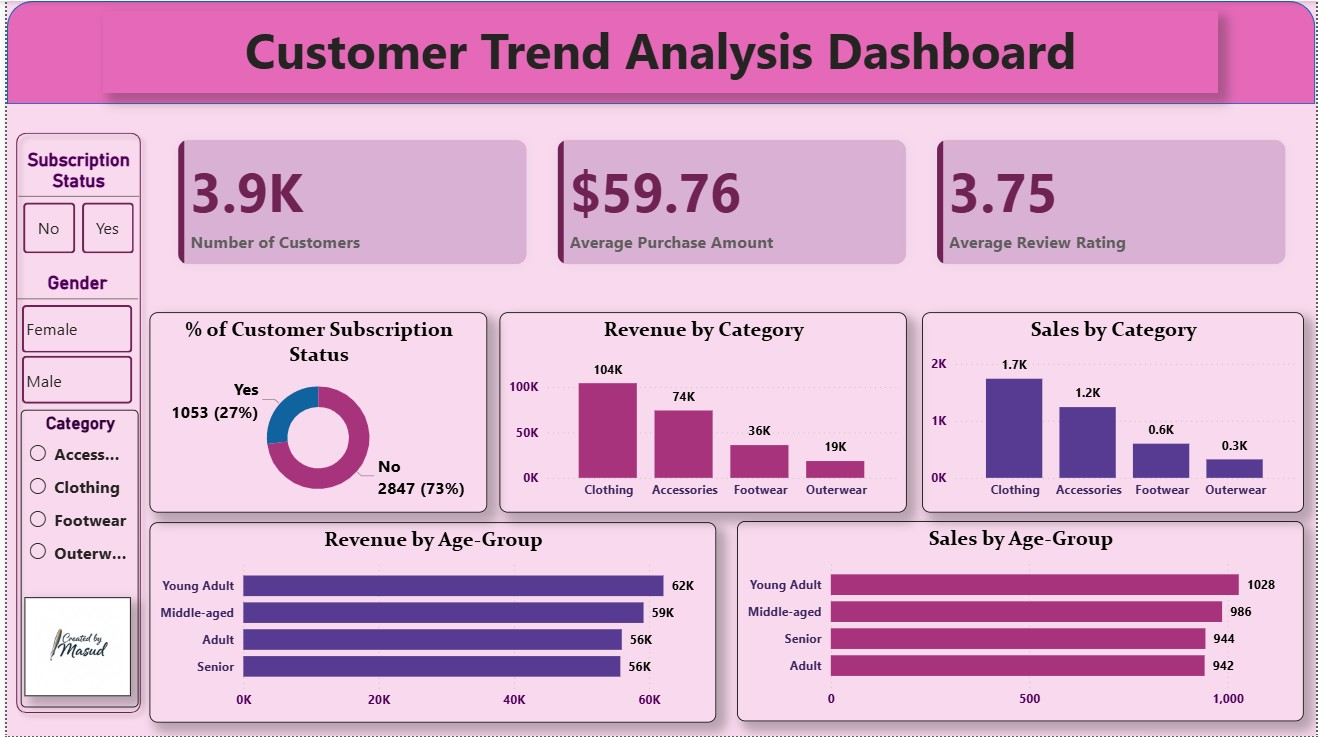

The dashboard page shown, as its layout file describes it:
{"tool":"powerbi","page":{"name":"Page 1","canvas":[1280,720],"ordinal":0},"visuals":[{"type":"shape","box":[0,0,1279.7,101],"z":0},{"type":"textbox","box":[93.8,10.1,1090.7,80],"z":1000},{"type":"cardVisual","fields":{"Data":["public customer.Number of Customers","public customer.Average Purchase Amount","public customer.Average Review Rating"]},"box":[151.5,119.7,1116.7,154.4],"z":2000},{"type":"donutChart","title":"% of Customer Subscription Status","fields":{"Category":["public customer.subscription_status"],"Y":["CountNonNull(public customer.customer_id)"]},"box":[139.9,304.4,330.4,196.2],"z":3000},{"type":"clusteredColumnChart","title":"Revenue by Category","fields":{"Category":["public customer.category"],"Y":["Sum(public customer.purchase_amount)"]},"box":[481.9,304.4,398.2,196.2],"z":4000},{"type":"clusteredColumnChart","title":"Sales by Category","fields":{"Category":["public customer.category"],"Y":["CountNonNull(public customer.customer_id)"]},"box":[894.5,304.4,373.7,196.2],"z":5000},{"type":"clusteredBarChart","title":"Revenue by Age-Group","fields":{"Category":["public customer.age_group"],"Y":["Sum(public customer.purchase_amount)"]},"box":[139.4,509.9,554,195.7],"z":6000},{"type":"clusteredBarChart","title":"Sales by Age-Group","fields":{"Category":["public customer.age_group"],"Y":["CountNonNull(public customer.customer_id)"]},"box":[714.2,509.3,554,196.2],"z":7000},{"type":"shape","box":[0,119.7,139.9,585.8],"z":8000},{"type":"advancedSlicerVisual","title":"Subscription Status","fields":{"Values":["public customer.subscription_status"]},"box":[11.5,144.3,118.3,106.8],"z":9000},{"type":"advancedSlicerVisual","title":"Gender","fields":{"Values":["public customer.gender"]},"box":[10.1,265.5,118.3,134.2],"z":10000},{"type":"listSlicer","title":"Category","fields":{"Values":["public customer.category"]},"box":[13,399.6,115.4,291.4],"z":10001},{"type":"image","box":[17.3,582.9,103.9,96.7],"z":10002}]}

Visuals, with their boxes in screenshot pixels (x1, y1, x2, y2), scaled from the page's 1280x720 canvas onto the 1318x737 screenshot:
shape: bbox=(0, 0, 1317, 103)
textbox: bbox=(97, 10, 1220, 92)
cardVisual - public customer.Number of Customers x public customer.Average Purchase Amount: bbox=(156, 123, 1306, 281)
"% of Customer Subscription Status" donutChart: bbox=(144, 312, 484, 512)
"Revenue by Category" clusteredColumnChart: bbox=(496, 312, 906, 512)
"Sales by Category" clusteredColumnChart: bbox=(921, 312, 1306, 512)
"Revenue by Age-Group" clusteredBarChart: bbox=(144, 522, 714, 722)
"Sales by Age-Group" clusteredBarChart: bbox=(735, 521, 1306, 722)
shape: bbox=(0, 123, 144, 722)
"Subscription Status" advancedSlicerVisual: bbox=(12, 148, 134, 257)
"Gender" advancedSlicerVisual: bbox=(10, 272, 132, 409)
"Category" listSlicer: bbox=(13, 409, 132, 707)
image: bbox=(18, 597, 125, 696)
